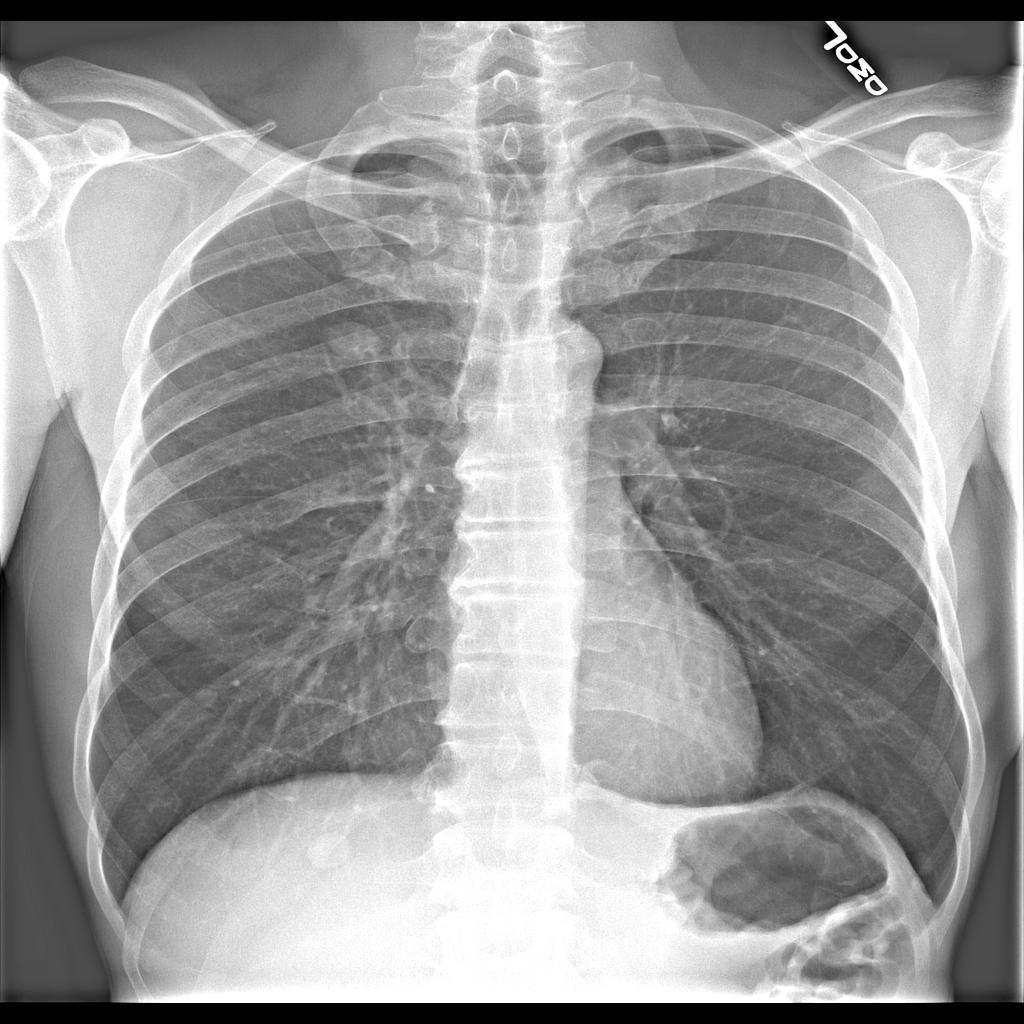Nodule: (313, 310, 387, 375)
